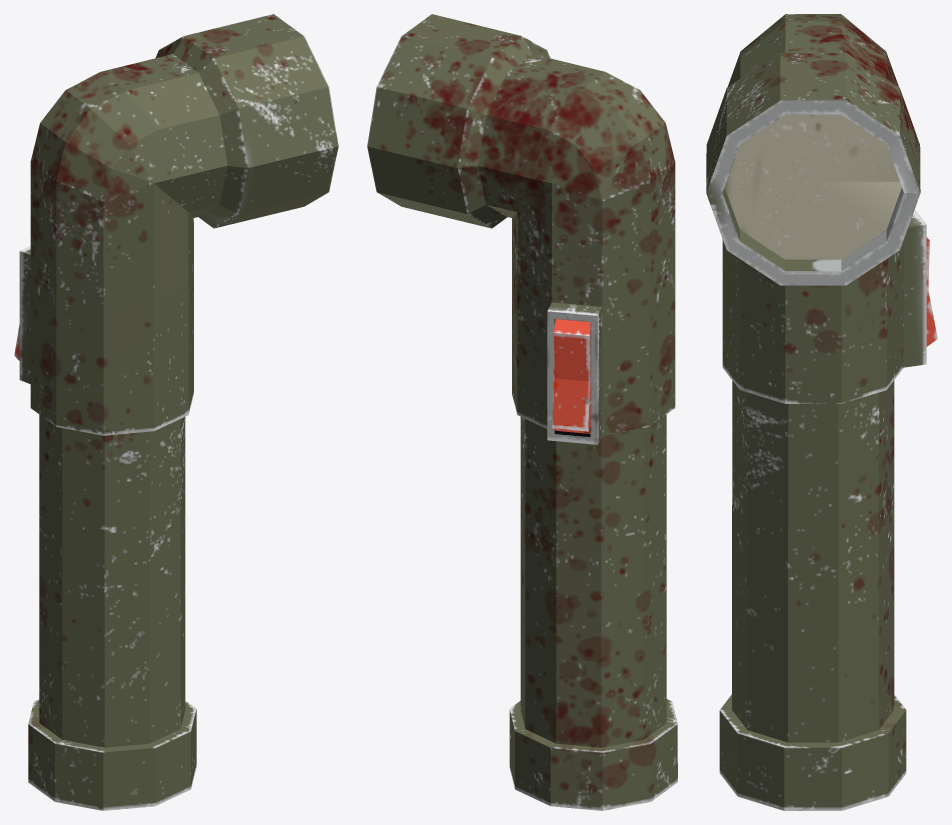
Rendered from OBJTextured Flashligh.fbx.
3 renders of one model, left to right at view 1: azimuth 30°, elevation 25°; view 2: azimuth 150°, elevation 25°; view 3: azimuth 270°, elevation 25°, orthographic. The views are drawn at different scales.
Visible parts, largest first — view 1: Flashlight_2_0_; view 2: Flashlight_2_0_; view 3: Flashlight_2_0_.
Part boxes in pixels (x1=…): Flashlight_2_0_: x1=14, y1=14, x2=338, y2=810; Flashlight_2_0_: x1=367, y1=14, x2=677, y2=810; Flashlight_2_0_: x1=706, y1=14, x2=937, y2=810.
Bounding box in the file's own units: 333 × 906 × 248.
Materials: 1 (1 with a texture image).
